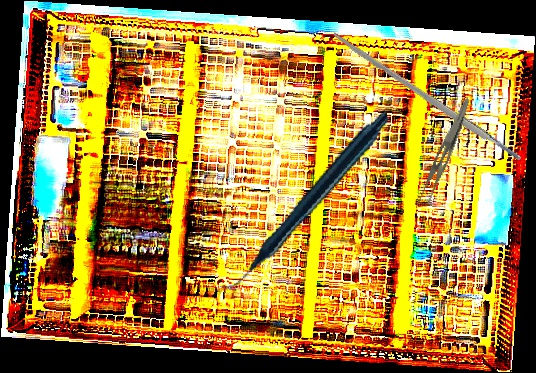Dressing Forceps: (414, 93, 471, 212)
Handpiece: (193, 110, 416, 291)
Scalpel Handle: (330, 29, 523, 165)
